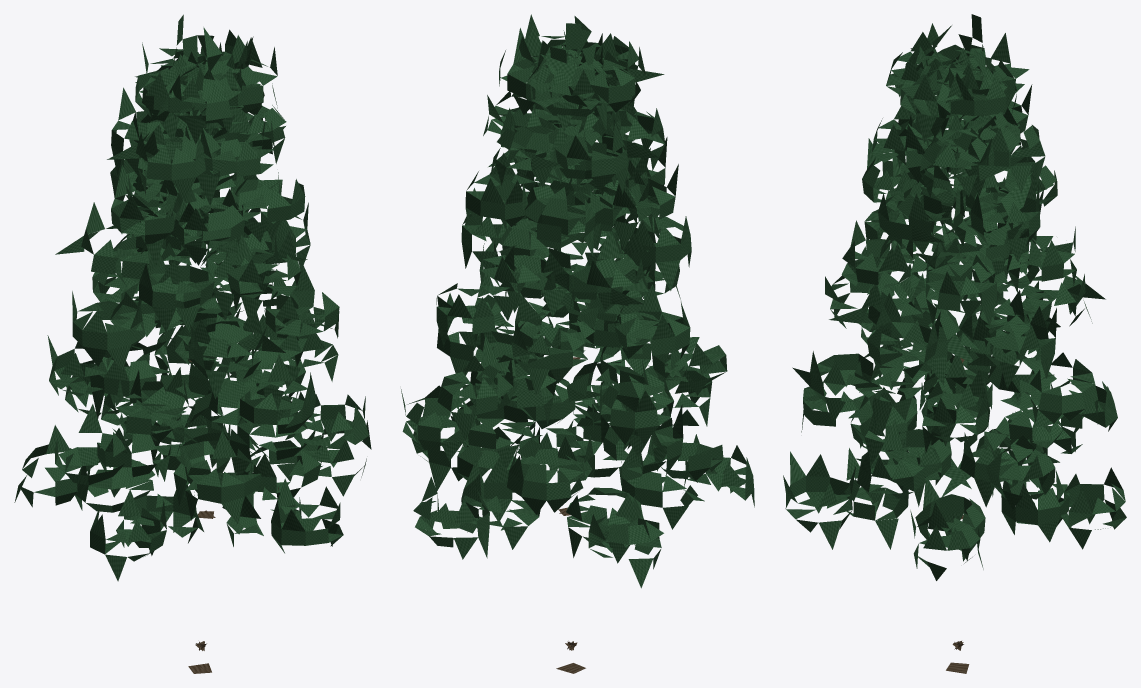
3 views of the same model, side by side, from view 1: azimuth 30°, elevation 25°; view 2: azimuth 150°, elevation 25°; view 3: azimuth 270°, elevation 25° (orthographic).
Parts seen in each view (by area): view 1: pine; view 2: pine; view 3: pine.
Boxes of the visible parts, box(x1,y1,x2,y2) form: pine: box(14, 14, 371, 673); pine: box(401, 14, 754, 673); pine: box(783, 14, 1126, 673).
Size of the model in its own units: 6.21 by 12.66 by 6.09.
Materials: 2 (2 with a texture image).
